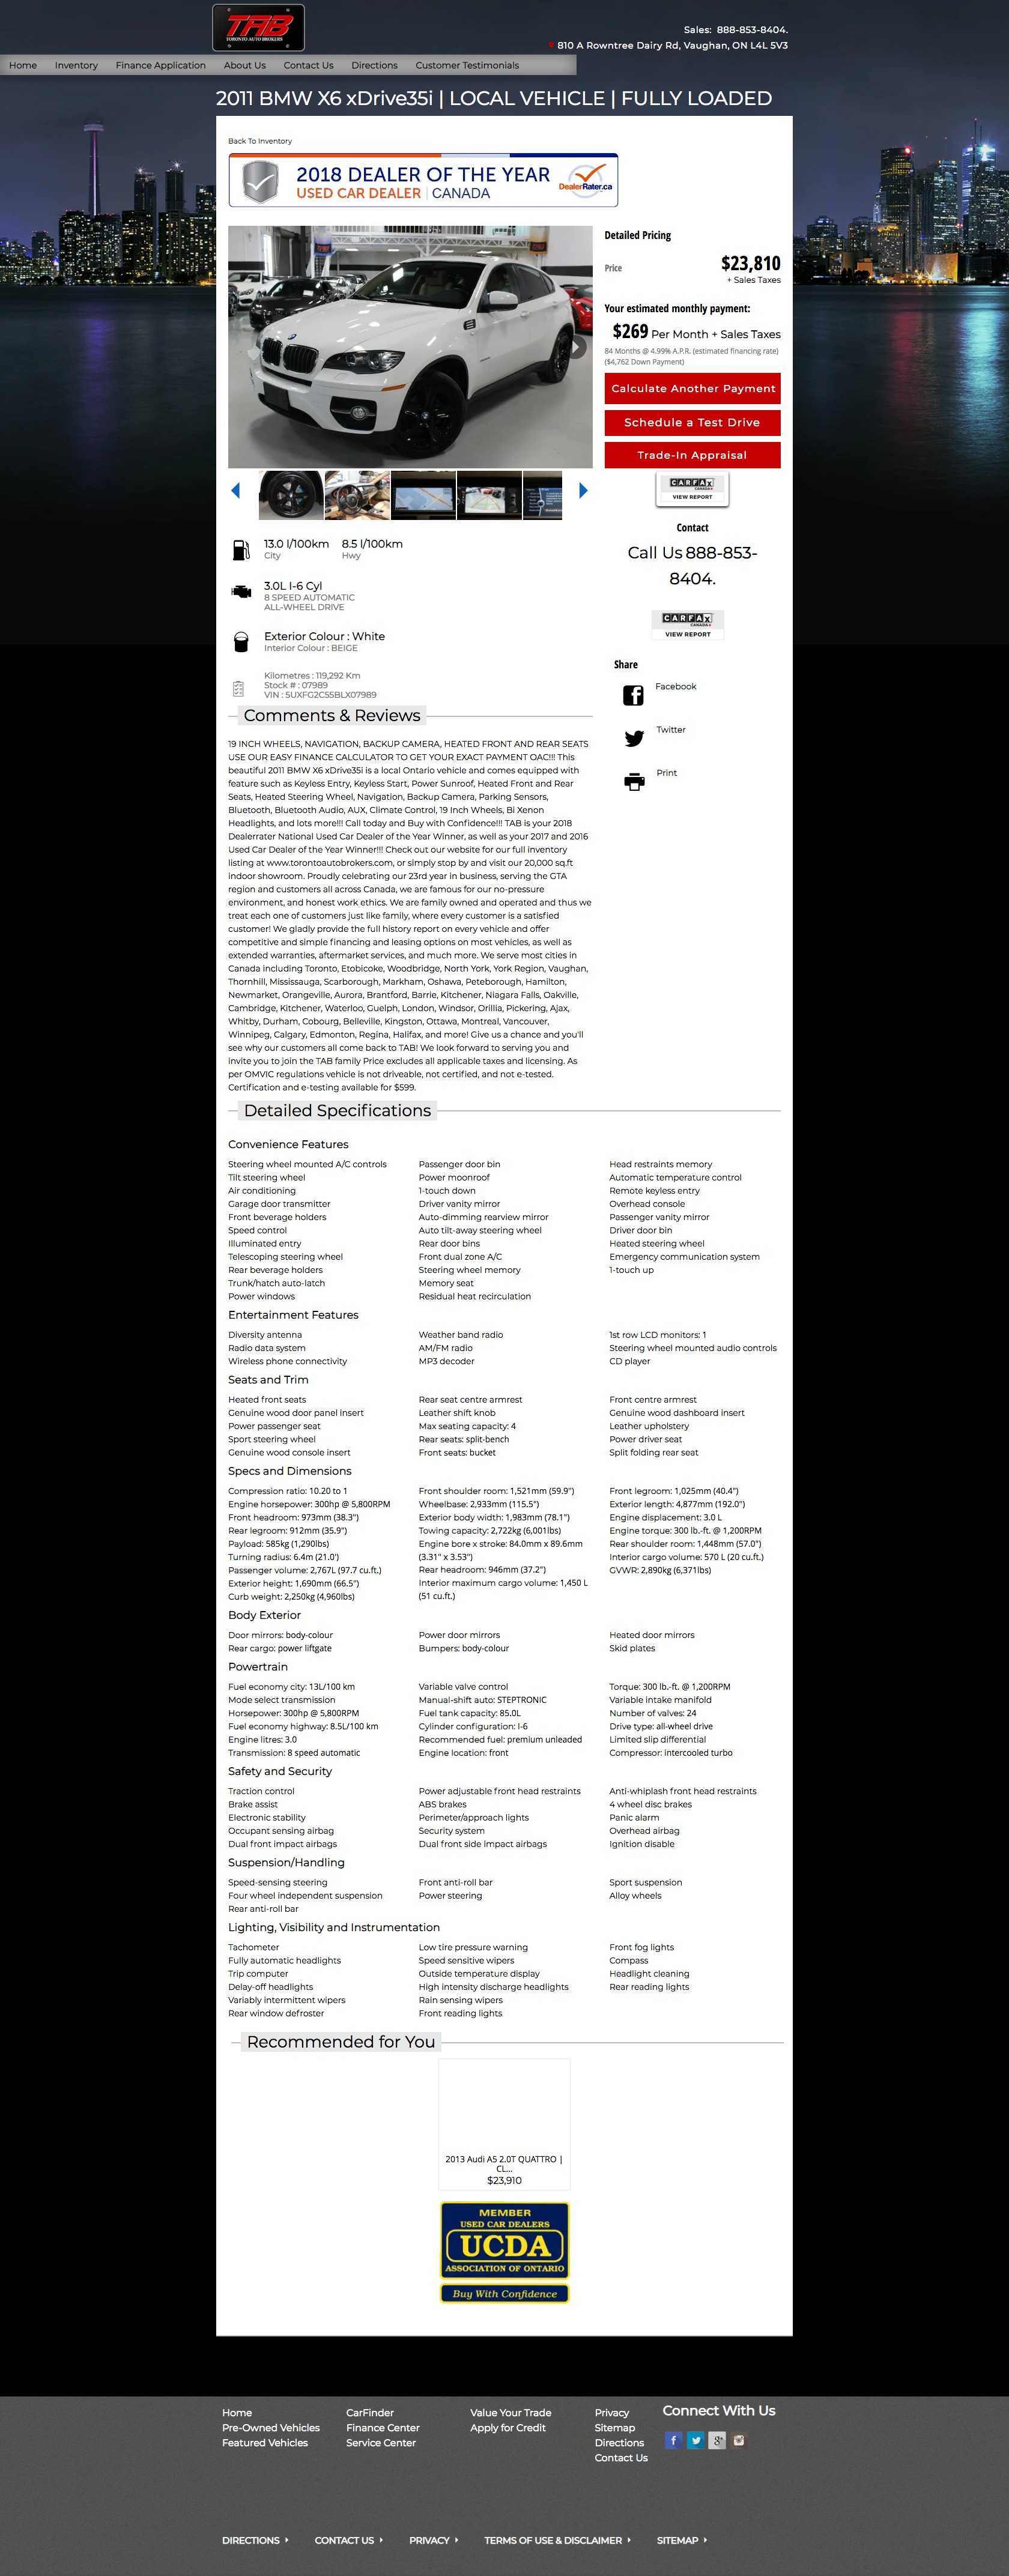car: (578, 483, 590, 499)
